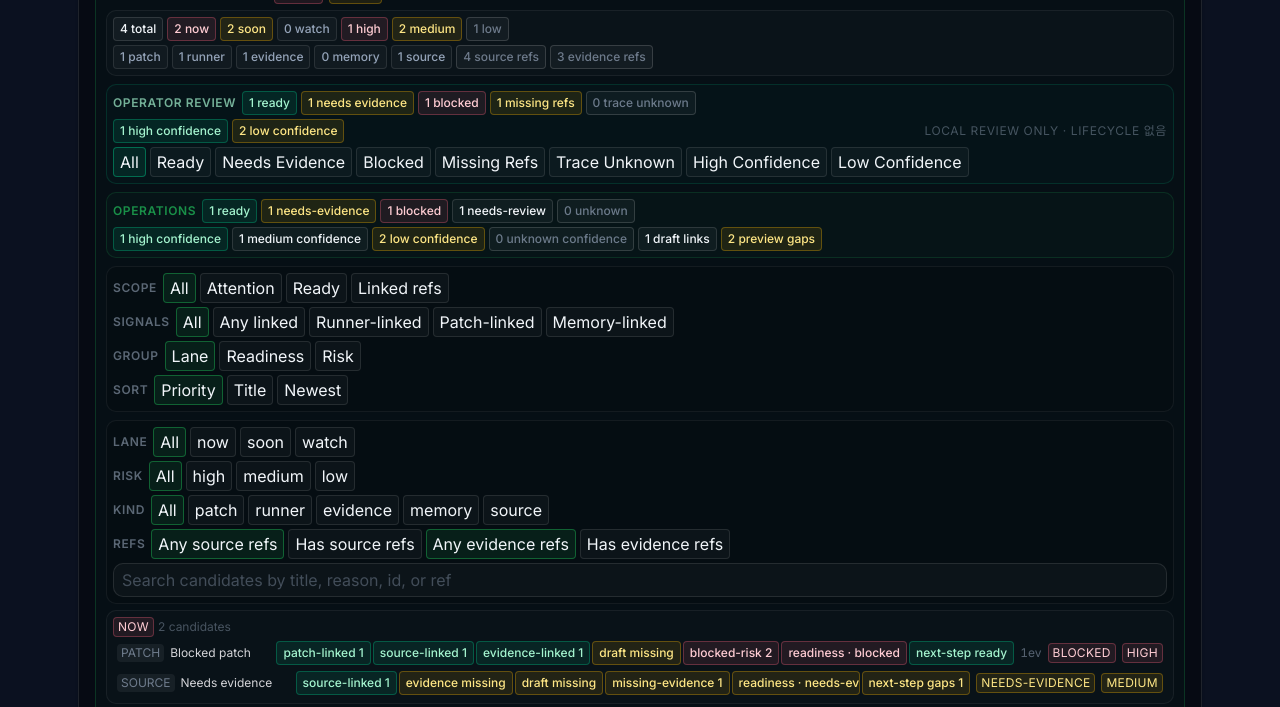
Scenario: E11 PR3 — WorkItem Candidate operations controls › groups locally by readiness and risk
This screenshot has width=1280, height=707.
(page scrolled)
Click the button with test id "wic-ops-groupby-readiness".
click(265, 356)  # box [219,340,311,370]
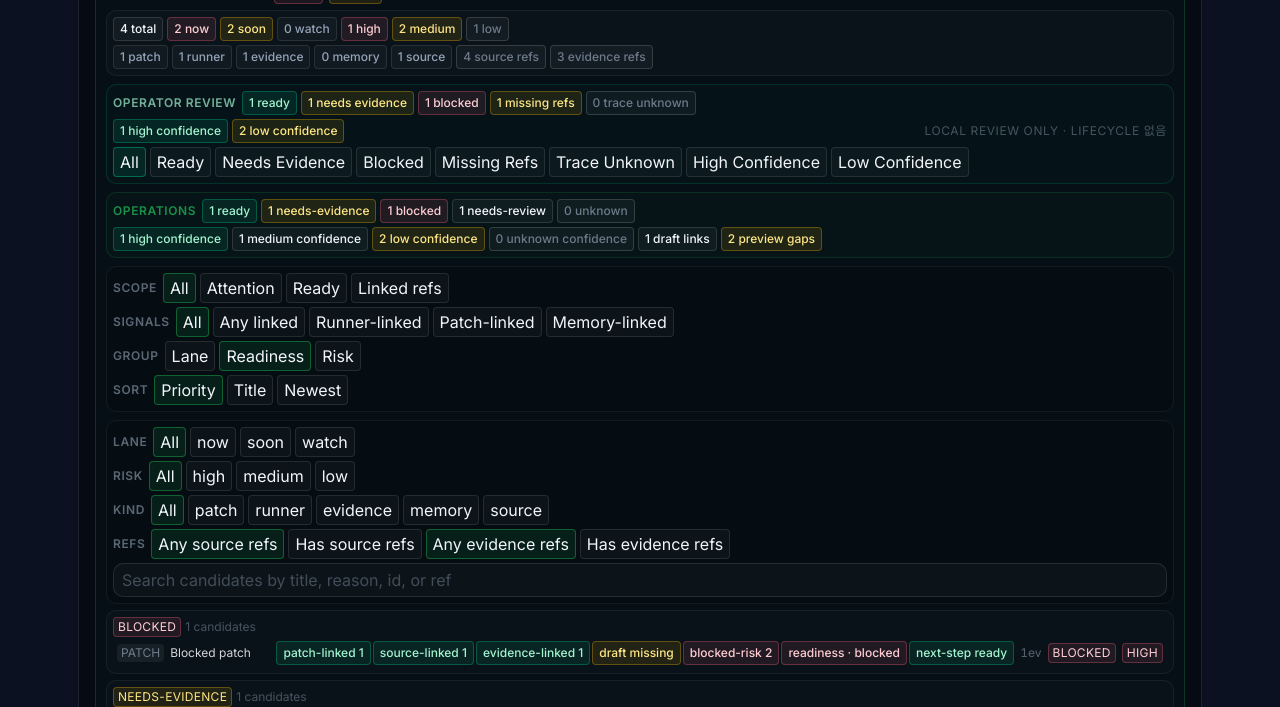
Expected: the element with test id "wic-ops-dynamic-group-blocked" shows "Blocked patch", [170,644,251,660]
Click the button with test id "wic-ops-groupby-risk".
click(338, 356)  # box [315,340,361,370]
(page scrolled)
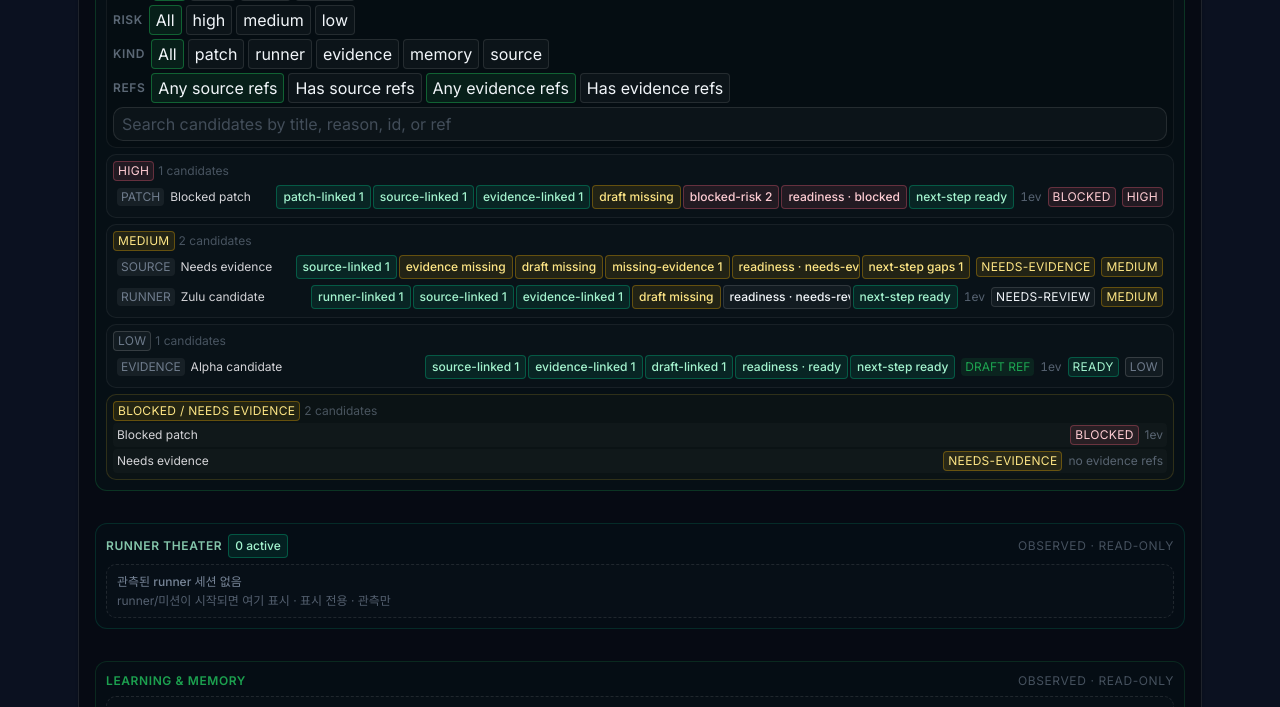
Result: the element with test id "wic-ops-dynamic-group-risk-high" shows "Blocked patch" at [170,188,251,204]
Result: the element with test id "wic-ops-dynamic-group-risk-low" shows "Alpha candidate" at [191,358,282,374]
